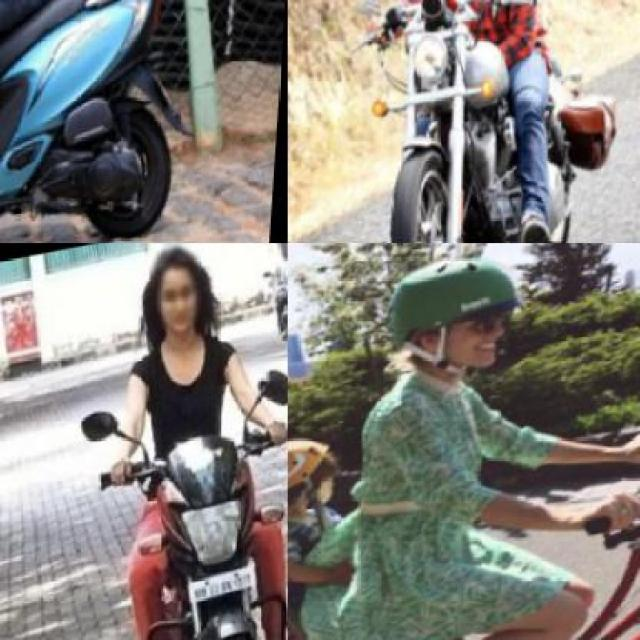With Helmet: (374, 243, 535, 397), (288, 423, 357, 540)
Without Helmet: (141, 243, 214, 335), (271, 243, 286, 263)
